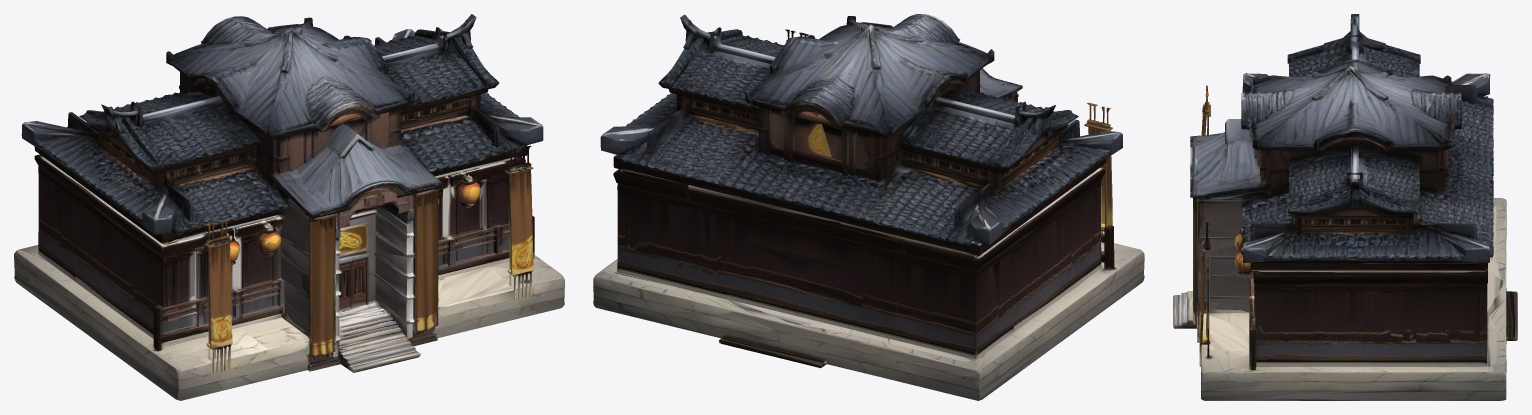
The model's file is bld_hall.glb.
3 views of the same model, side by side, from view 1: azimuth 30°, elevation 25°; view 2: azimuth 150°, elevation 25°; view 3: azimuth 270°, elevation 25° (orthographic). The views are drawn at different scales.
Visible parts, largest first — view 1: node_0; view 2: node_0; view 3: node_0.
Boxes of the visible parts, box(x1,y1,x2,y2) form: node_0: box(14, 14, 564, 400); node_0: box(593, 14, 1144, 400); node_0: box(1173, 14, 1517, 400).
Size of the model in its own units: 9.87 by 6.5 by 8.16.
1 material, 1 textured.
